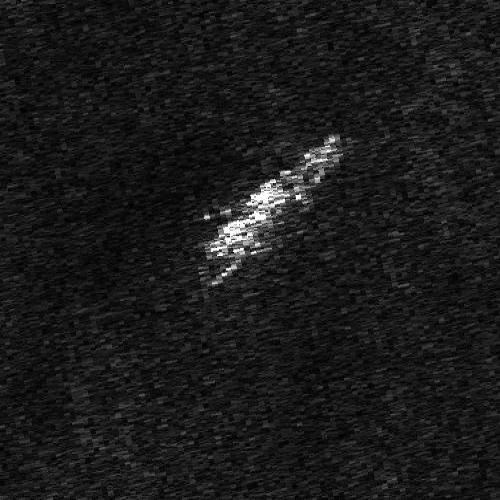ship: (195, 136, 346, 287)
